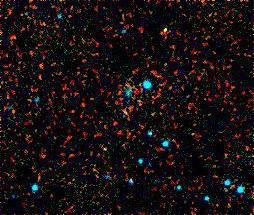star: (148, 18, 178, 48)
